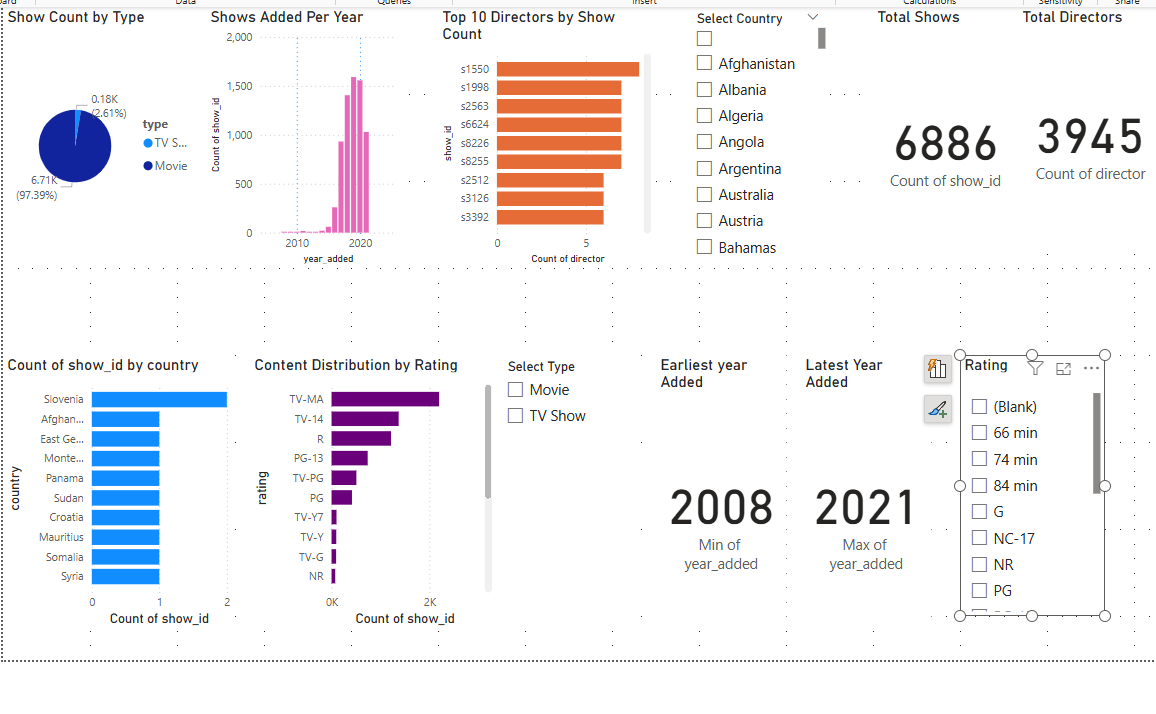

The page's visual inventory and layout, read from the dashboard file:
{"tool":"powerbi","page":{"name":"Page 1","canvas":[1280,720],"ordinal":0},"visuals":[{"type":"pieChart","fields":{"Category":["netflix_titles.type"],"Y":["CountNonNull(netflix_titles.show_id)"]},"box":[0,0,224,288],"z":0},{"type":"clusteredColumnChart","fields":{"Category":["netflix_titles.year_added"],"Y":["CountNonNull(netflix_titles.show_id)"]},"box":[272,0,272,288],"z":1000},{"type":"barChart","fields":{"Category":["netflix_titles.country"],"Y":["CountNonNull(netflix_titles.show_id)"]},"box":[0,384,384,272],"z":2000},{"type":"barChart","fields":{"Category":["netflix_titles.show_id"],"Y":["CountNonNull(netflix_titles.director)"]},"box":[560,0,272,288],"z":3000},{"type":"clusteredBarChart","fields":{"Category":["netflix_titles.rating"],"Y":["CountNonNull(netflix_titles.show_id)"]},"box":[560,384,272,272],"z":4000}]}

Visuals, with their boxes on the page's 1280x720 design canvas (x1, y1, x2, y2). These are canvas units, not pixel positions in the 1156x714 screenshot, which may show the page scaled, cropped or inside an application window:
pieChart - netflix_titles.type x CountNonNull(netflix_titles.show_id): bbox(0, 0, 224, 288)
clusteredColumnChart - netflix_titles.year_added x CountNonNull(netflix_titles.show_id): bbox(272, 0, 544, 288)
barChart - netflix_titles.country x CountNonNull(netflix_titles.show_id): bbox(0, 384, 384, 656)
barChart - netflix_titles.show_id x CountNonNull(netflix_titles.director): bbox(560, 0, 832, 288)
clusteredBarChart - netflix_titles.rating x CountNonNull(netflix_titles.show_id): bbox(560, 384, 832, 656)
